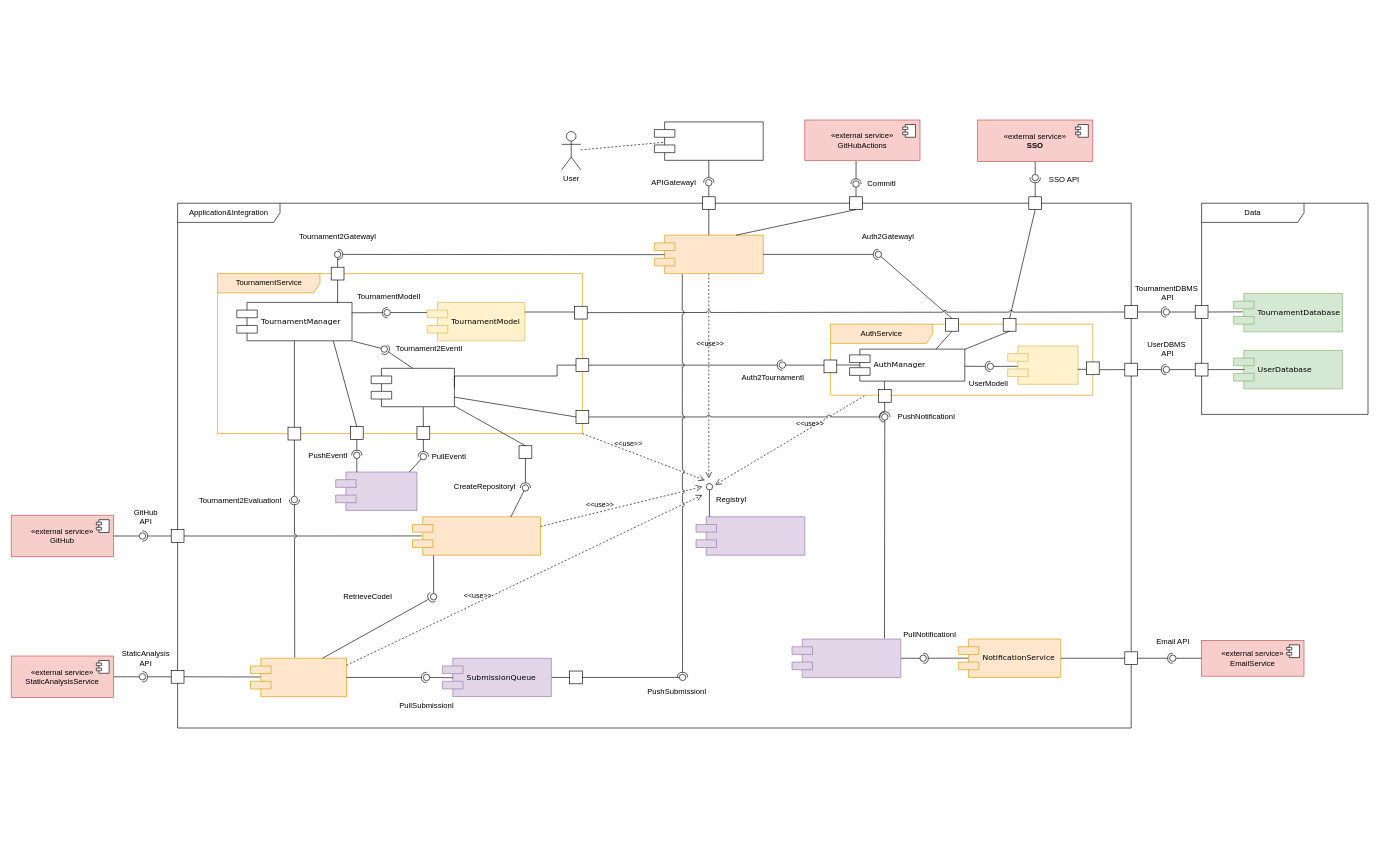
This 1379x848 diagram has some shape labels left out. The centre of each missing label's shape, as x and y in pixels:
"APIGatewayService" goes at [708,254].
"EvaluationService" goes at [298,677].
"EventManager" goes at [412,387].
"EventQueue" goes at [376,490].
"GitHubIntegrationService" goes at [476,535].
"NotificationQueue" goes at [846,657].
"ServiceRegistry" goes at [750,535].
"UserModel" goes at [1042,364].
"WebApplication" goes at [708,140].
